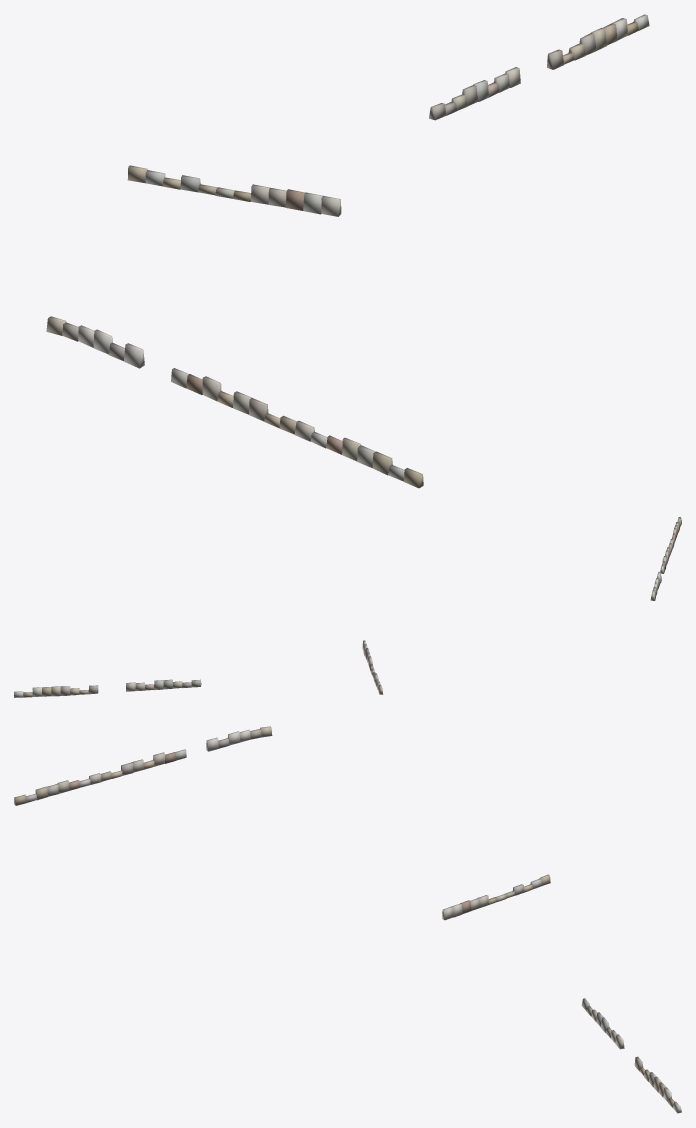
File: farm_-36_-48_far.glb
3 views of the same model, one above another, from view 1: azimuth 30°, elevation 25°; view 2: azimuth 150°, elevation 25°; view 3: azimuth 270°, elevation 25° (orthographic). The views are drawn at different scales.
Visible parts, largest first — view 1: geometry_0; view 2: geometry_0; view 3: geometry_0.
Boxes of the visible parts, <box> form: geometry_0: <box>46,14,649,488</box>; geometry_0: <box>14,517,681,697</box>; geometry_0: <box>14,726,681,1113</box>.
Size of the model in its own units: 89.3 by 16.96 by 91.24.
